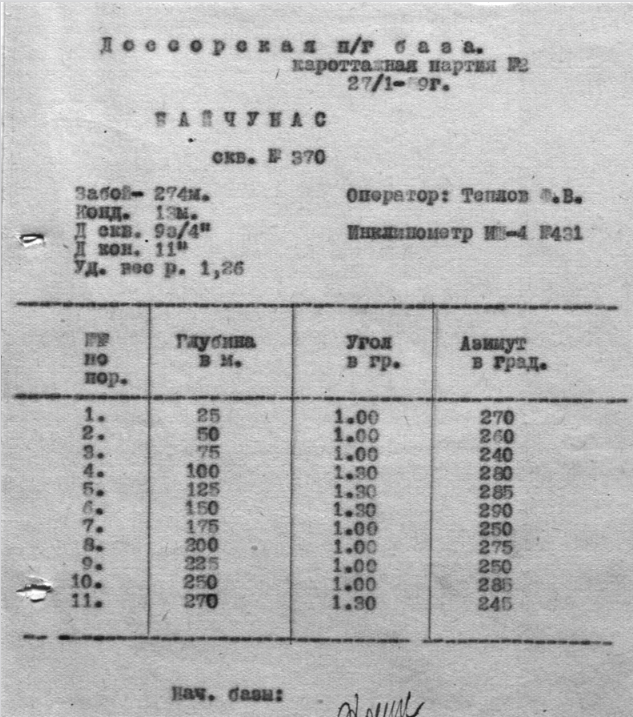Borderless: (6, 303, 633, 645)
